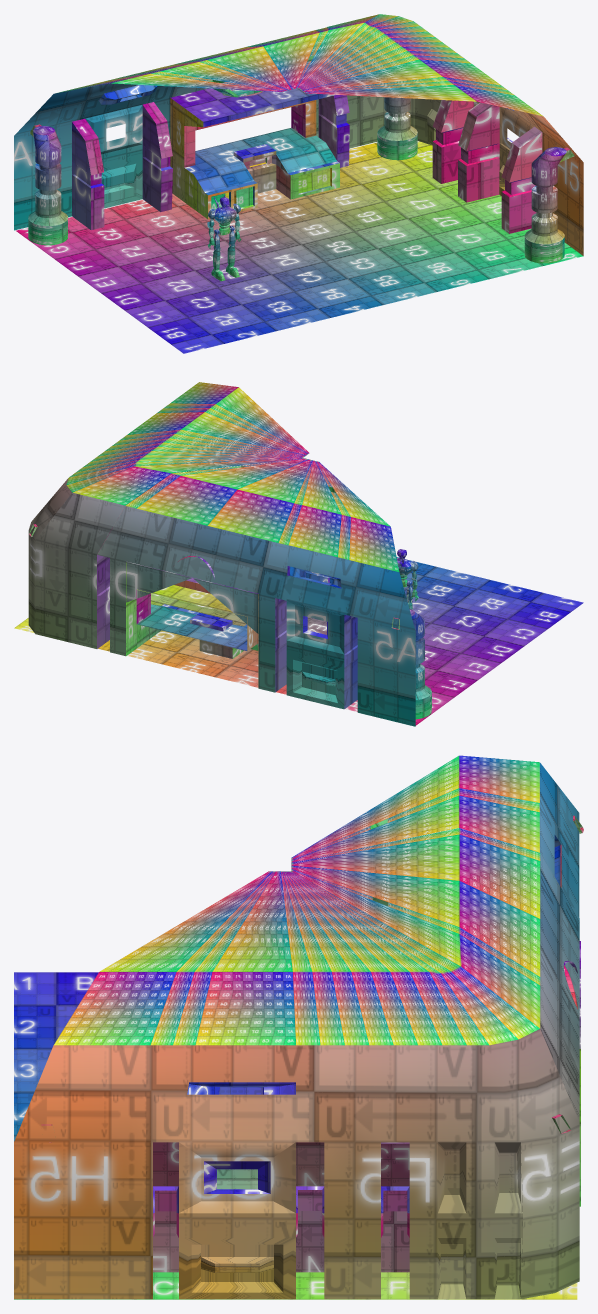
The model's file is BackgroundFour.obj.
3 views of the same model, one above another, from view 1: azimuth 30°, elevation 25°; view 2: azimuth 150°, elevation 25°; view 3: azimuth 270°, elevation 25° (orthographic). The views are drawn at different scales.
Parts seen in each view (by area): view 1: group1 pPlane1, pPlane2, pCube1 group1, pasted__pasted__pasted__pCylinder1 pasted__pasted__group pasted_, pasted__pCylinder1 group, pasted__pasted__pCylinder1 pasted__group group5, UVModeling:pCube3; view 2: group1 pPlane1, pPlane2, pCube1 group1, pasted__pCylinder1 group, UVModeling:pCube3; view 3: group1 pPlane1, pPlane2.
Part boxes in pixels (box(x1,y1,x2,y2)): group1 pPlane1: box(14, 14, 583, 255); pPlane2: box(16, 141, 583, 353); pCube1 group1: box(170, 88, 339, 219); pasted__pasted__pasted__pCylinder1 pasted__pasted__group pasted_: box(524, 147, 574, 263); pasted__pCylinder1 group: box(28, 124, 67, 245); pasted__pasted__pCylinder1 pasted__group group5: box(377, 97, 417, 160); UVModeling:pCube3: box(207, 195, 241, 281); group1 pPlane1: box(28, 382, 415, 726); pPlane2: box(14, 557, 583, 725); pCube1 group1: box(126, 561, 258, 688); pasted__pCylinder1 group: box(391, 609, 431, 719); UVModeling:pCube3: box(397, 549, 418, 609); group1 pPlane1: box(14, 755, 579, 1299); pPlane2: box(14, 972, 577, 1299).
Bounding box in the file's own units: 1587 × 602 × 1165.
Materials: 4 (4 with a texture image).
